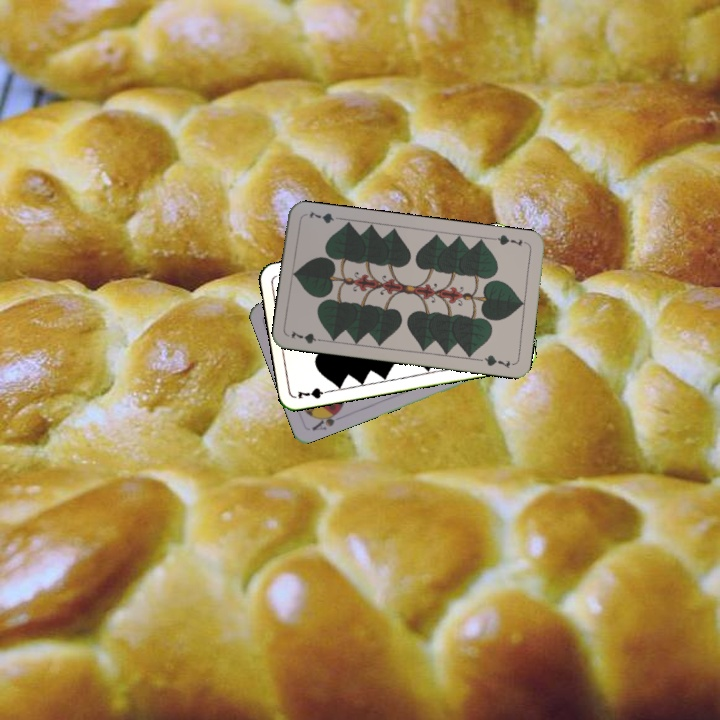G7: (287, 327, 327, 346), (294, 384, 334, 401), (489, 231, 525, 249)
SA: (308, 405, 343, 433)
